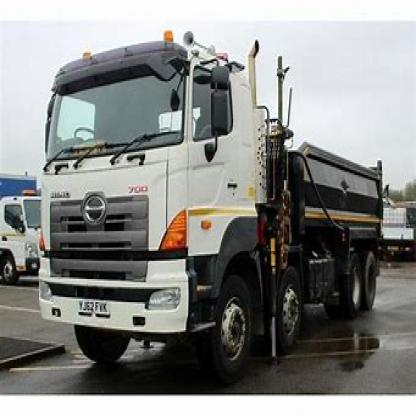dump_truck: (37, 35, 383, 373)
